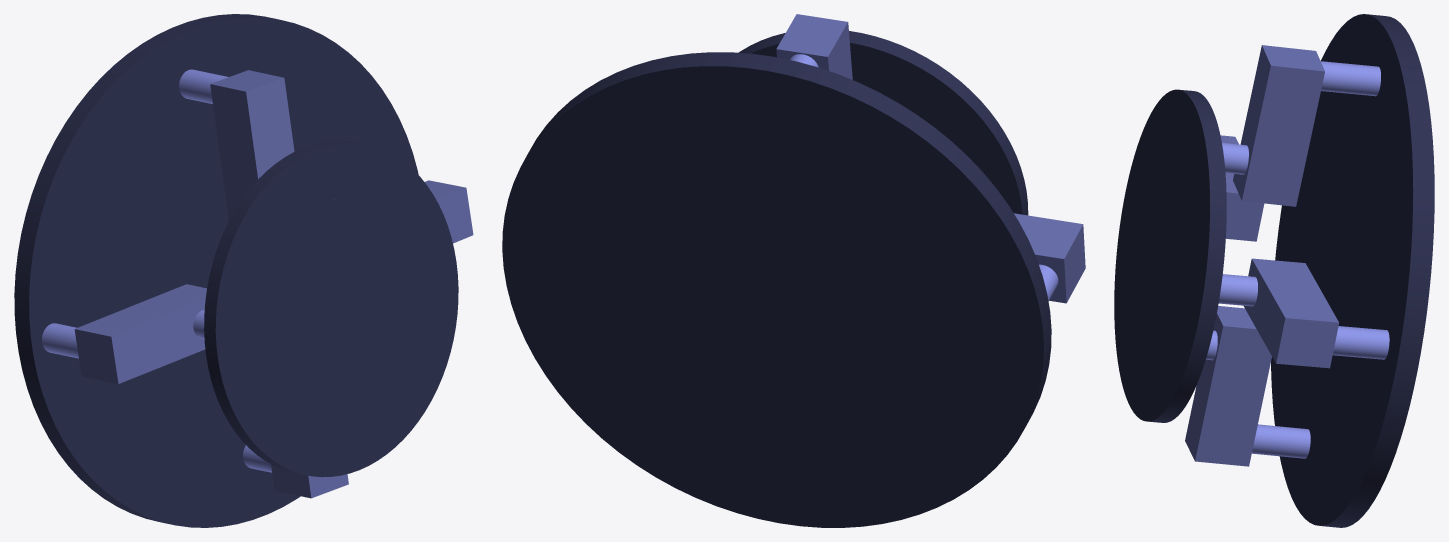
Rendered from Force Gauge.glb.
3 views of the same model, side by side, from view 1: azimuth 30°, elevation 25°; view 2: azimuth 150°, elevation 25°; view 3: azimuth 270°, elevation 25° (orthographic). The views are drawn at different scales.
Visible parts, largest first — view 1: mesh_id17, mesh_id16, mesh_id7, mesh_id6, mesh_id9, mesh_id8, mesh_id12, mesh_id15; view 2: mesh_id17, mesh_id16, mesh_id7, mesh_id6; view 3: mesh_id17, mesh_id16, mesh_id6, mesh_id8, mesh_id9, mesh_id7, mesh_id12, mesh_id11, mesh_id10, mesh_id19, mesh_id18.
Part boxes in pixels (left/top/right/bottom): mesh_id17: left=14, top=14, right=418, bottom=527; mesh_id16: left=204, top=140, right=458, bottom=477; mesh_id7: left=74, top=284, right=206, bottom=383; mesh_id6: left=210, top=70, right=294, bottom=220; mesh_id9: left=424, top=180, right=473, bottom=243; mesh_id8: left=271, top=464, right=348, bottom=498; mesh_id12: left=179, top=69, right=228, bottom=103; mesh_id15: left=42, top=323, right=78, bottom=358; mesh_id17: left=502, top=52, right=1051, bottom=527; mesh_id16: left=738, top=31, right=1028, bottom=215; mesh_id7: left=1014, top=213, right=1085, bottom=303; mesh_id6: left=776, top=14, right=852, bottom=79; mesh_id17: left=1271, top=14, right=1434, bottom=527; mesh_id16: left=1114, top=89, right=1226, bottom=422; mesh_id6: left=1233, top=45, right=1324, bottom=206; mesh_id8: left=1185, top=306, right=1271, bottom=466; mesh_id9: left=1243, top=258, right=1338, bottom=368; mesh_id7: left=1220, top=135, right=1264, bottom=241; mesh_id12: left=1320, top=61, right=1380, bottom=96; mesh_id11: left=1252, top=424, right=1310, bottom=458; mesh_id10: left=1332, top=326, right=1389, bottom=359; mesh_id19: left=1218, top=274, right=1257, bottom=306; mesh_id18: left=1222, top=142, right=1248, bottom=174.
Size of the model in its own units: 0.4999 by 0.4924 by 0.3114.
14 materials, 6 textured.
